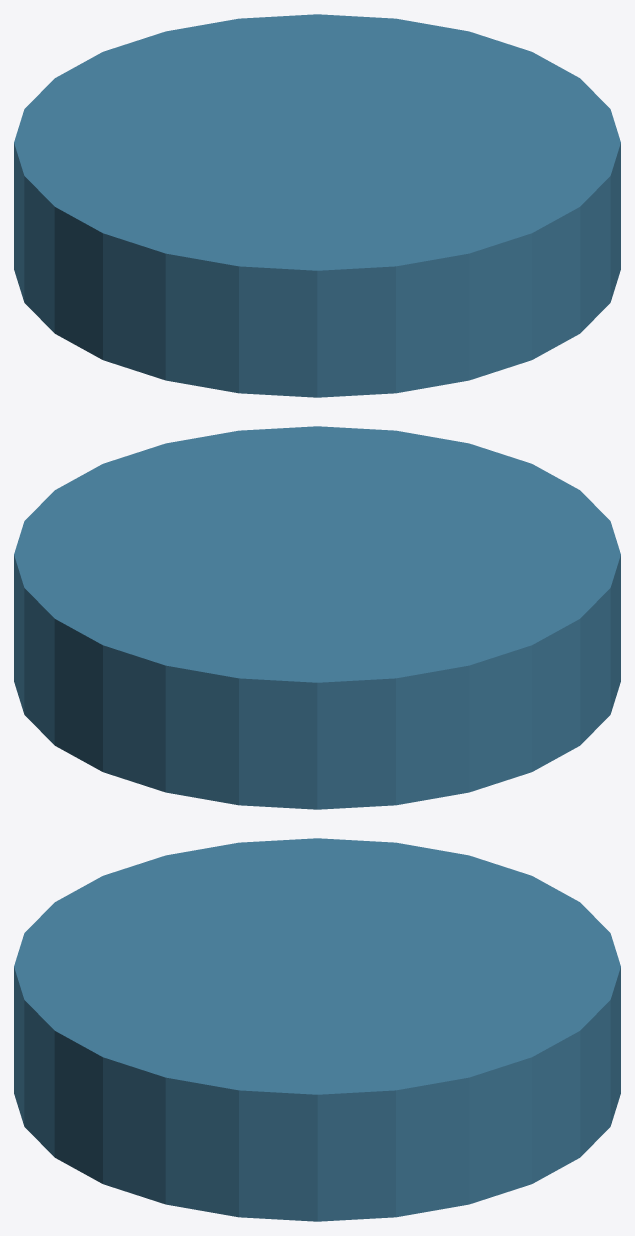
The model's file is 58_L96_RTD_Probe_Housing.fbx.
3 renders of one model, top to bottom at view 1: azimuth 30°, elevation 25°; view 2: azimuth 150°, elevation 25°; view 3: azimuth 270°, elevation 25°, orthographic.
Parts seen in each view (by area): view 1: L96_RTD_Probe_Housing_000_Sensor_Optical_Cover; view 2: L96_RTD_Probe_Housing_000_Sensor_Optical_Cover; view 3: L96_RTD_Probe_Housing_000_Sensor_Optical_Cover.
Part boxes in pixels (x1,y1,x2,y2): L96_RTD_Probe_Housing_000_Sensor_Optical_Cover: (14,14,620,397); L96_RTD_Probe_Housing_000_Sensor_Optical_Cover: (14,426,620,809); L96_RTD_Probe_Housing_000_Sensor_Optical_Cover: (14,838,620,1221).
Size of the model in its own units: 0.0052 by 0.0012 by 0.0052.
